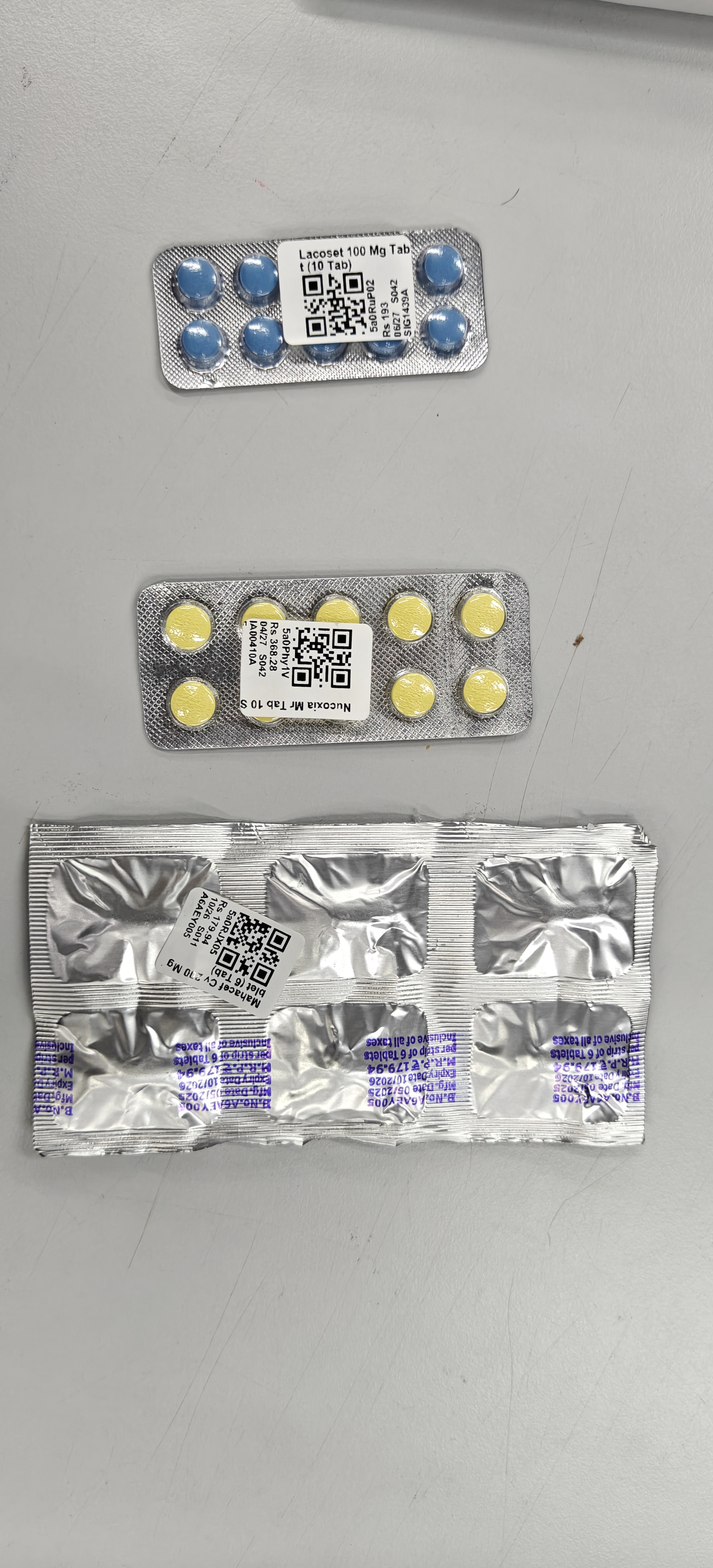qr_code: (215, 912, 274, 1045), (215, 911, 291, 987), (301, 271, 367, 338), (291, 626, 352, 688)
